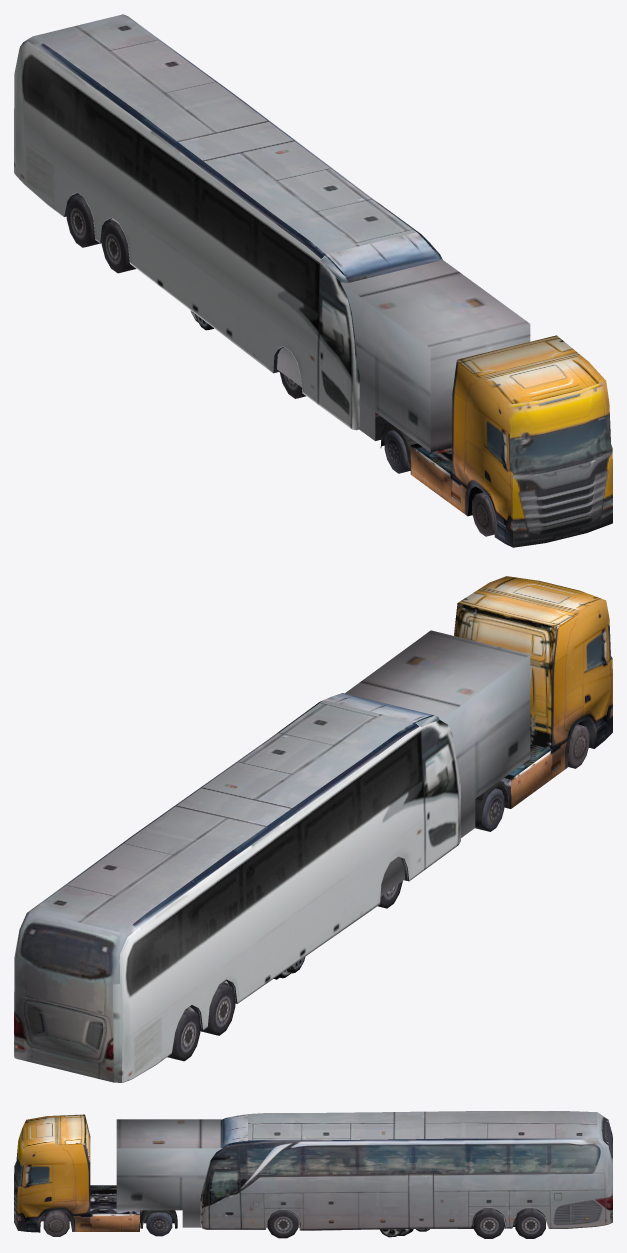
File: CarsForUnity.fbx
The picture shows the model from 3 angles, top to bottom: view 1: azimuth 30°, elevation 25°; view 2: azimuth 150°, elevation 25°; view 3: azimuth 270°, elevation 25°; orthographic projection. The views are drawn at different scales.
Visible parts, largest first — view 1: TruckYellowCabin, BUSwhite, BUSgrey; view 2: BUSwhite, BUSgrey, TruckYellowCabin; view 3: BUSgrey, TruckYellowCabin, BUSwhite.
Boxes of the visible parts, x1=… form: TruckYellowCabin: x1=109, y1=218, x2=612, y2=547; BUSwhite: x1=14, y1=41, x2=359, y2=430; BUSgrey: x1=20, y1=14, x2=442, y2=282; BUSwhite: x1=17, y1=715, x2=460, y2=1082; BUSgrey: x1=14, y1=693, x2=433, y2=1081; TruckYellowCabin: x1=219, y1=576, x2=612, y2=985; BUSgrey: x1=201, y1=1111, x2=612, y2=1238; TruckYellowCabin: x1=14, y1=1114, x2=505, y2=1236; BUSwhite: x1=200, y1=1118, x2=596, y2=1238.
Size of the model in its own units: 308 by 447 by 2440.
